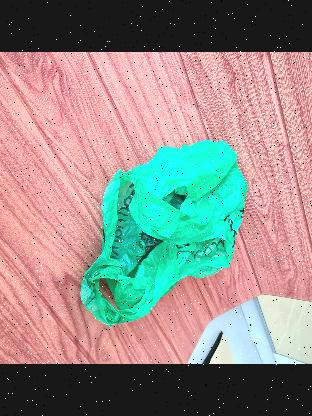Others: (78, 140, 250, 330)
